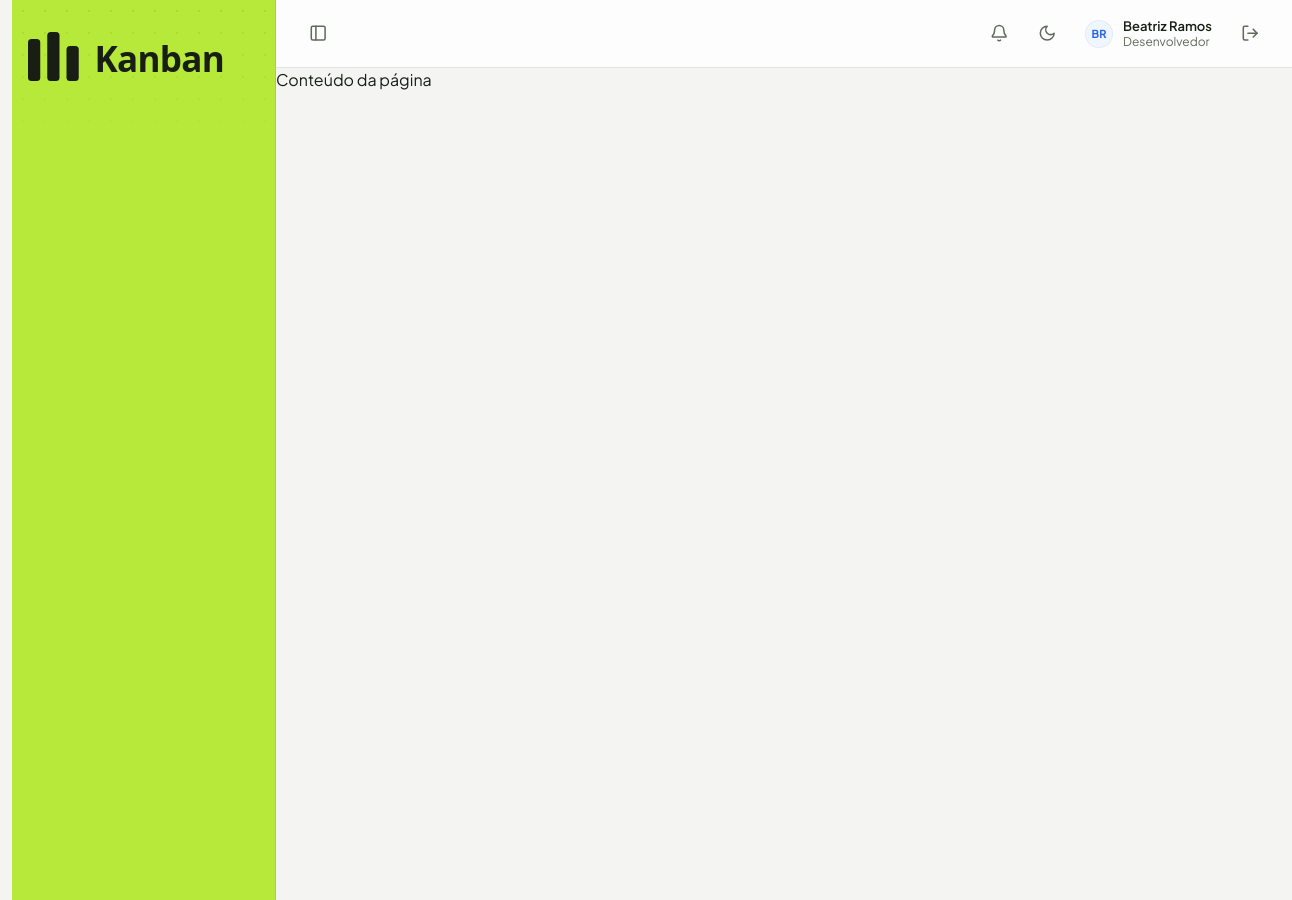
AppLayout — Topbar › offers a control, right beside the sidebar, to collapse it
Click the button named "Recolher menu". click: (318, 34)
box: [300,16,336,52]
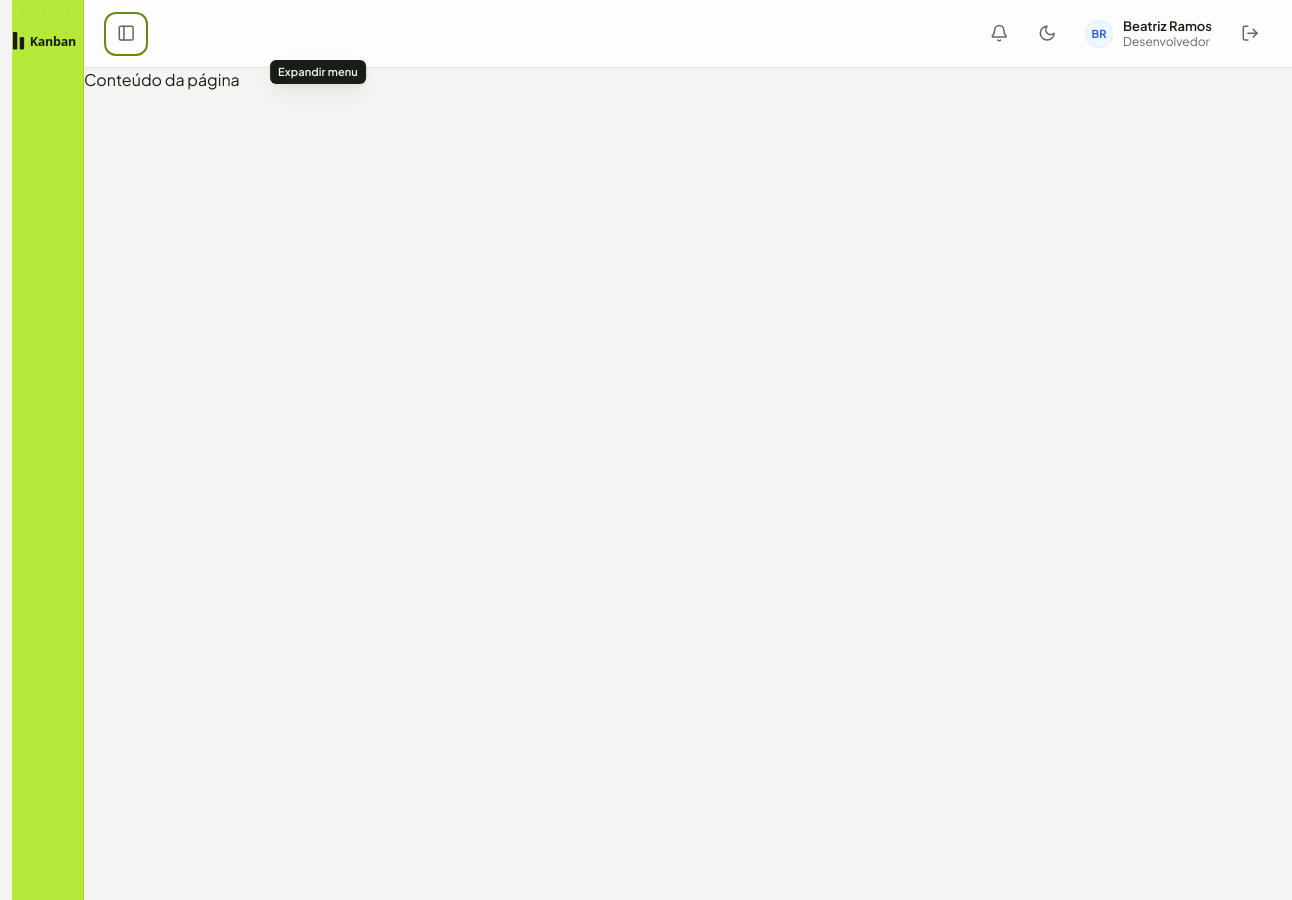
Now the button named "Expandir menu" is shown, box [108,16,144,52]
